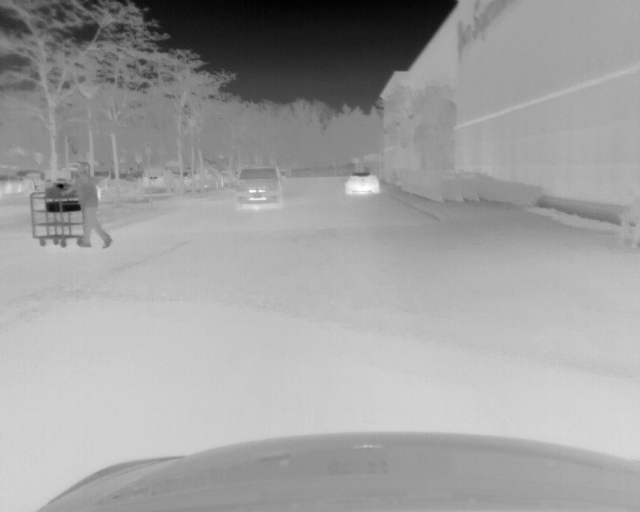car: (232, 165, 286, 210), (343, 170, 381, 195), (140, 167, 173, 193), (189, 165, 222, 191)
people: (59, 162, 113, 250), (615, 184, 640, 249)
